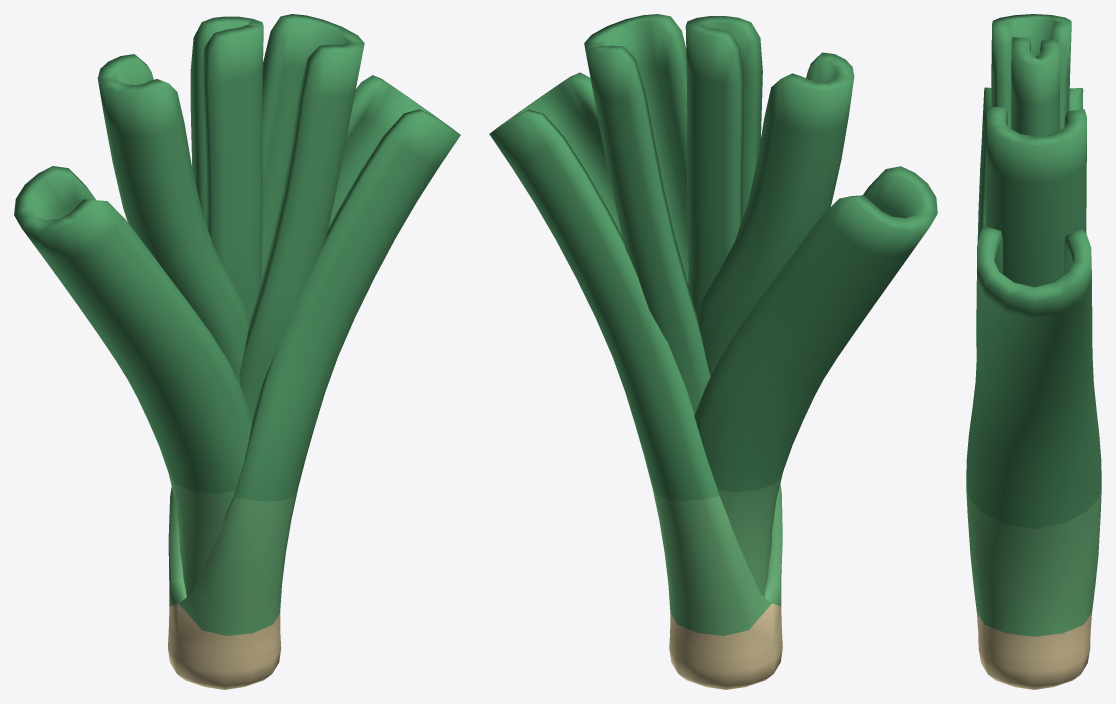
Rendered from Leek_02.dae.
The picture shows the model from 3 angles, left to right: view 1: azimuth 30°, elevation 25°; view 2: azimuth 150°, elevation 25°; view 3: azimuth 270°, elevation 25°; orthographic projection. The views are drawn at different scales.
Parts seen in each view (by area): view 1: Leek_02_LOD0; view 2: Leek_02_LOD0; view 3: Leek_02_LOD0.
Part boxes in pixels (x1=…): Leek_02_LOD0: x1=14, y1=14, x2=460, y2=689; Leek_02_LOD0: x1=489, y1=14, x2=937, y2=689; Leek_02_LOD0: x1=966, y1=14, x2=1101, y2=689.
Size of what is drawn, in the model's own units: 5.61 by 1.57 by 8.1.
